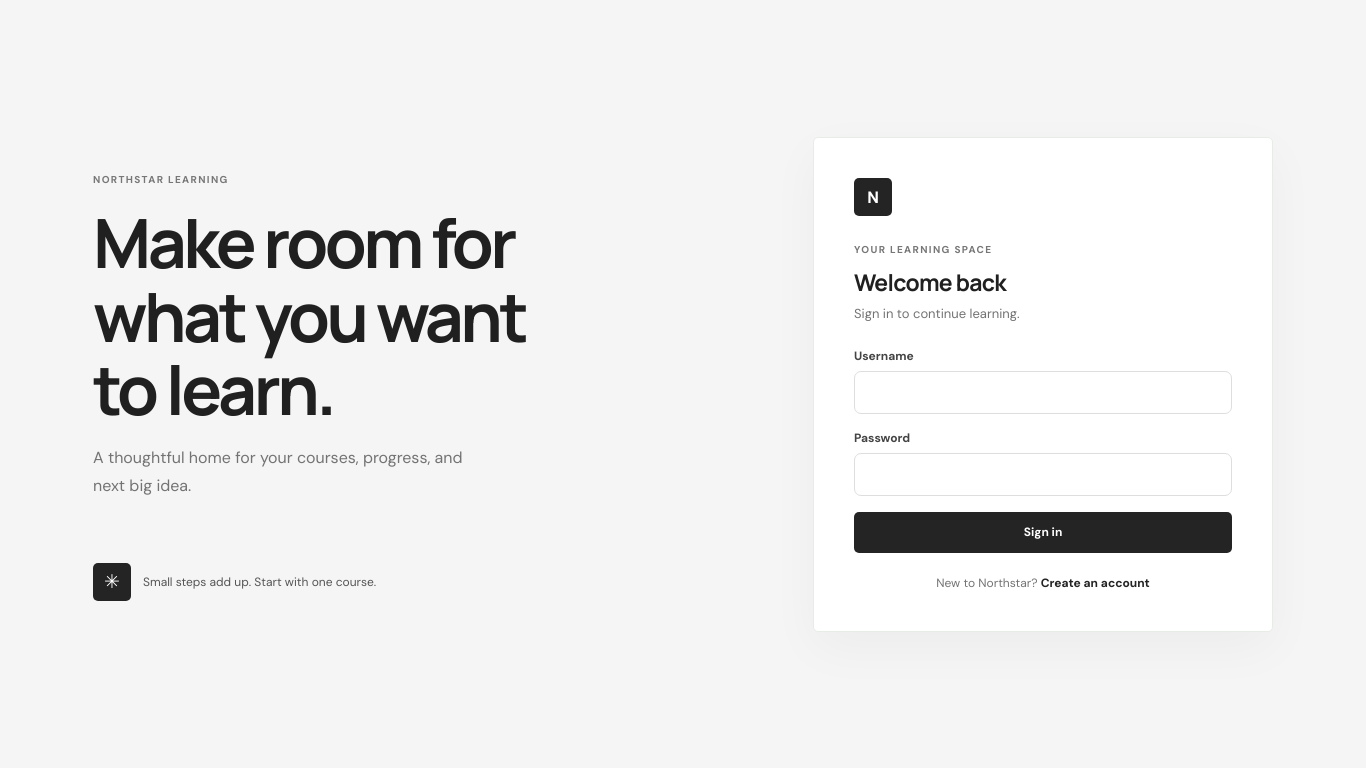
Test: Learning Management System › offers account registration
The width and height of the screenshot is (1366, 768).
Step 1. Click the button "Create an account" → click(1095, 582), box [1041, 574, 1150, 590]
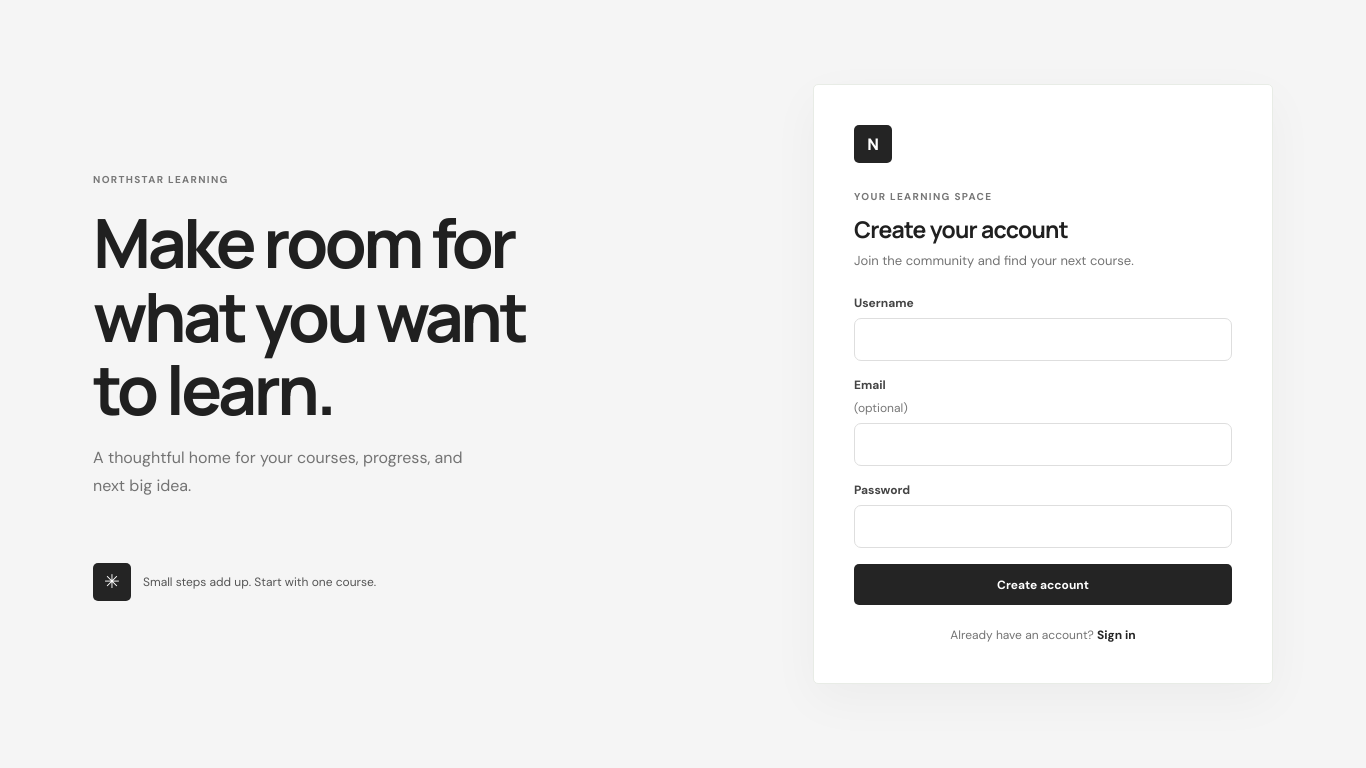
Now the heading "Create your account" is shown, box [854, 213, 1068, 245]
Now the field labelled "Email (optional)" is shown, box [854, 423, 1232, 466]
